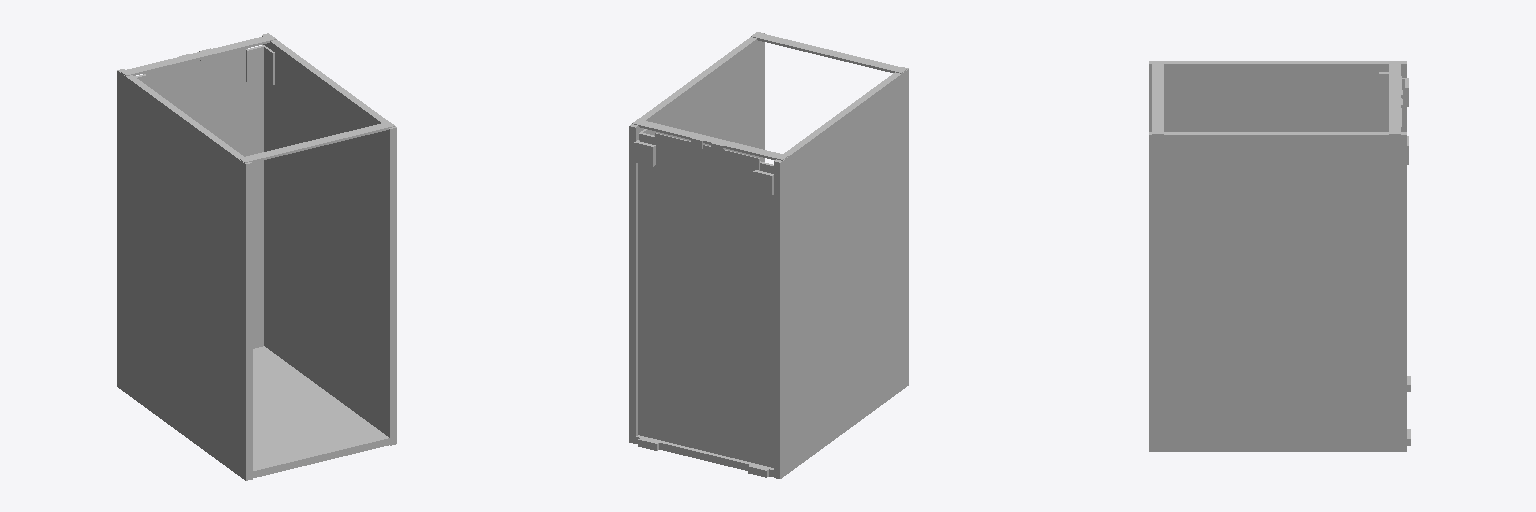
Rendered from IKEA.ART.80213432.obj.
3 renders of one model, left to right at view 1: azimuth 30°, elevation 25°; view 2: azimuth 150°, elevation 25°; view 3: azimuth 270°, elevation 25°, orthographic.
Parts seen in each view (by area): view 1: model_model.037; view 2: model_model.037; view 3: model_model.037.
Boxes of the visible parts, x1=… form: model_model.037: x1=117, y1=33, x2=396, y2=480; model_model.037: x1=629, y1=32, x2=908, y2=478; model_model.037: x1=1149, y1=61, x2=1410, y2=451.
Bounding box in the file's own units: 0.4 × 0.802 × 0.6.